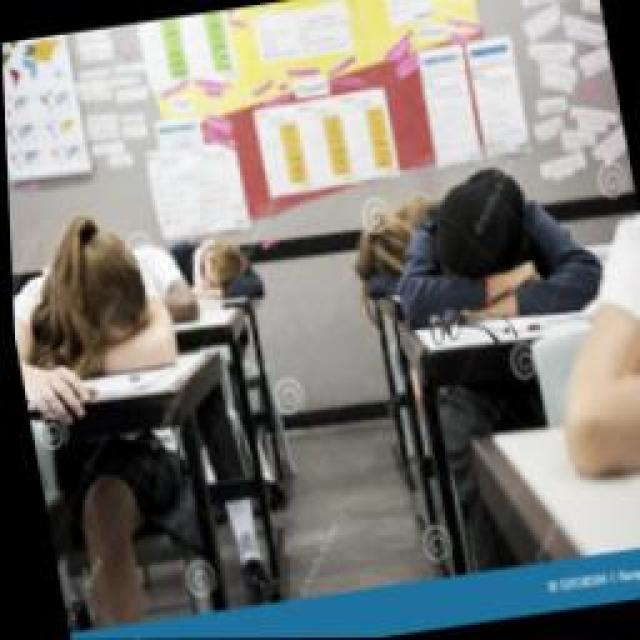sleep: (375, 162, 605, 340), (8, 212, 180, 388), (145, 230, 260, 312)
